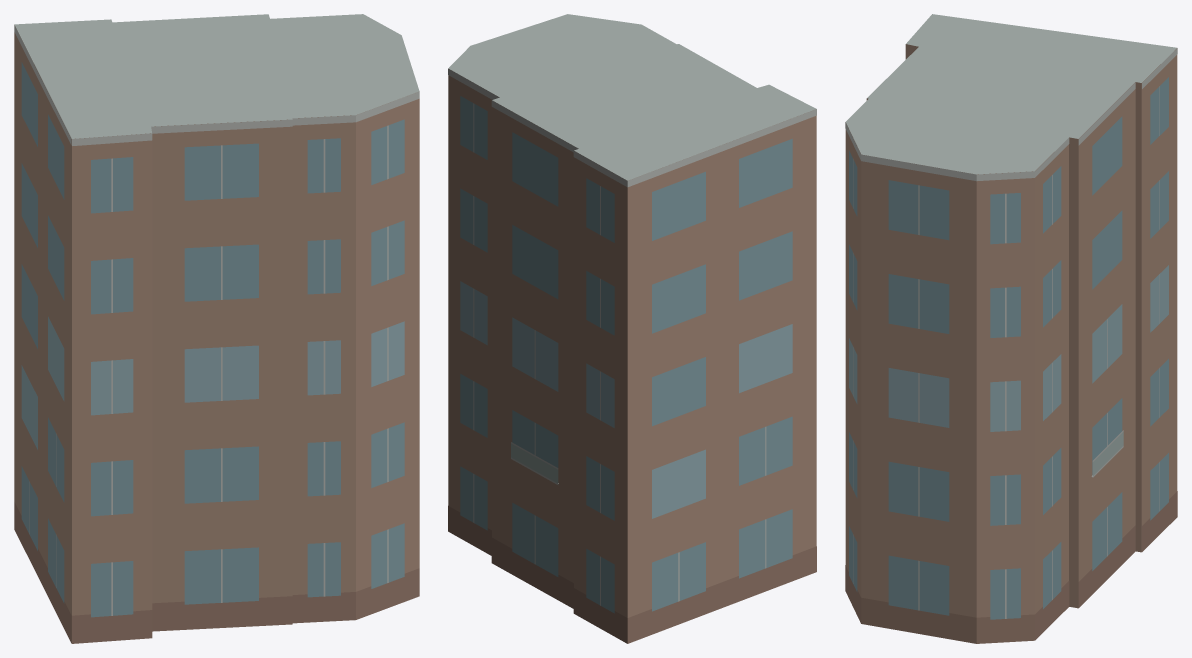
File: survey-upis-32677210.glb
The picture shows the model from 3 angles, left to right: view 1: azimuth 30°, elevation 25°; view 2: azimuth 150°, elevation 25°; view 3: azimuth 270°, elevation 25°; orthographic projection. The views are drawn at different scales.
Parts seen in each view (by area): view 1: survey-upis-32677210.tmp; view 2: survey-upis-32677210.tmp; view 3: survey-upis-32677210.tmp.
Boxes of the visible parts, left/top/right/bottom form: survey-upis-32677210.tmp: left=14, top=14, right=419, bottom=643; survey-upis-32677210.tmp: left=448, top=14, right=816, bottom=643; survey-upis-32677210.tmp: left=845, top=14, right=1177, bottom=643.
Size of the model in its own units: 12.55 by 17.1 by 10.97.
